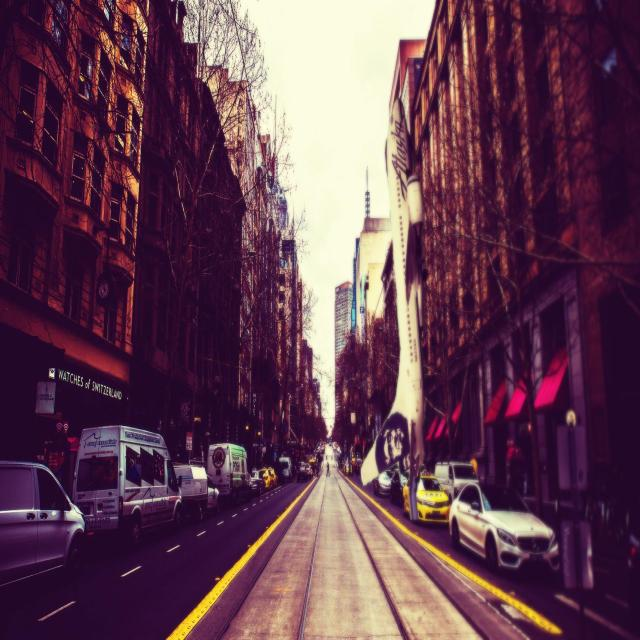airplane: (360, 96, 426, 519)
